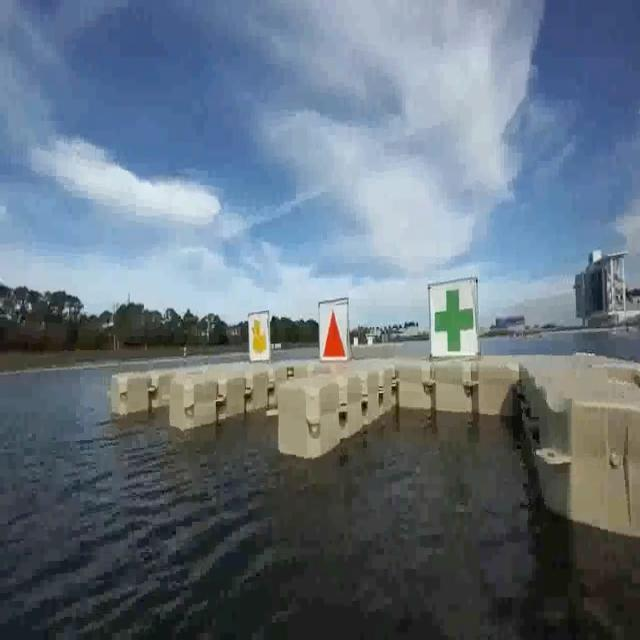blue-cross: (426, 281, 478, 358)
red-dot: (318, 304, 351, 363)
yellow-duck: (247, 313, 272, 358)
